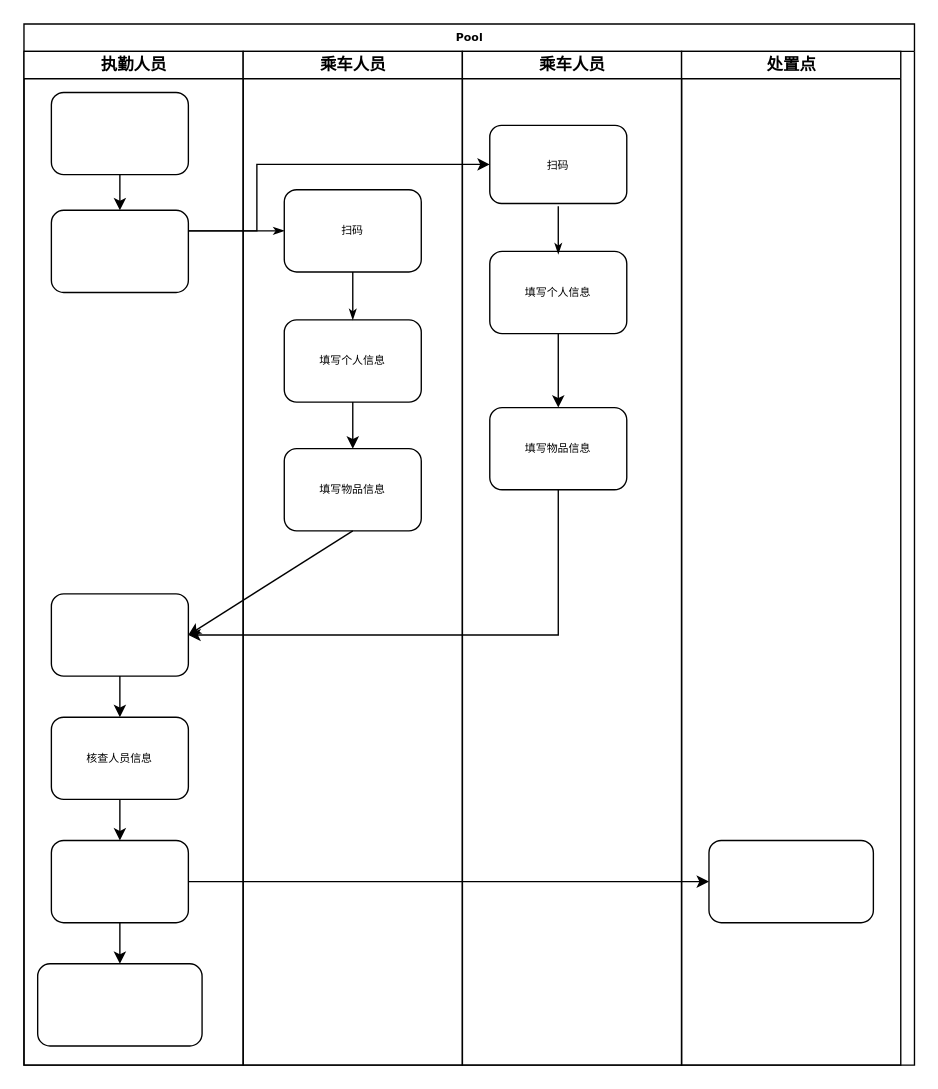
Image size: 938x1089. Some labels were removed from this diagram. The shapes that lost their labels are listed below. From the top down, each one's centre as x and y in pixels, then its label:
point (119, 133): 扫码车牌
point (119, 250): 生成二维码 并出示
point (119, 634): 核查车辆信息
point (119, 881): 核查物品信息
point (790, 881): 核查处置
point (119, 1004): 放行
